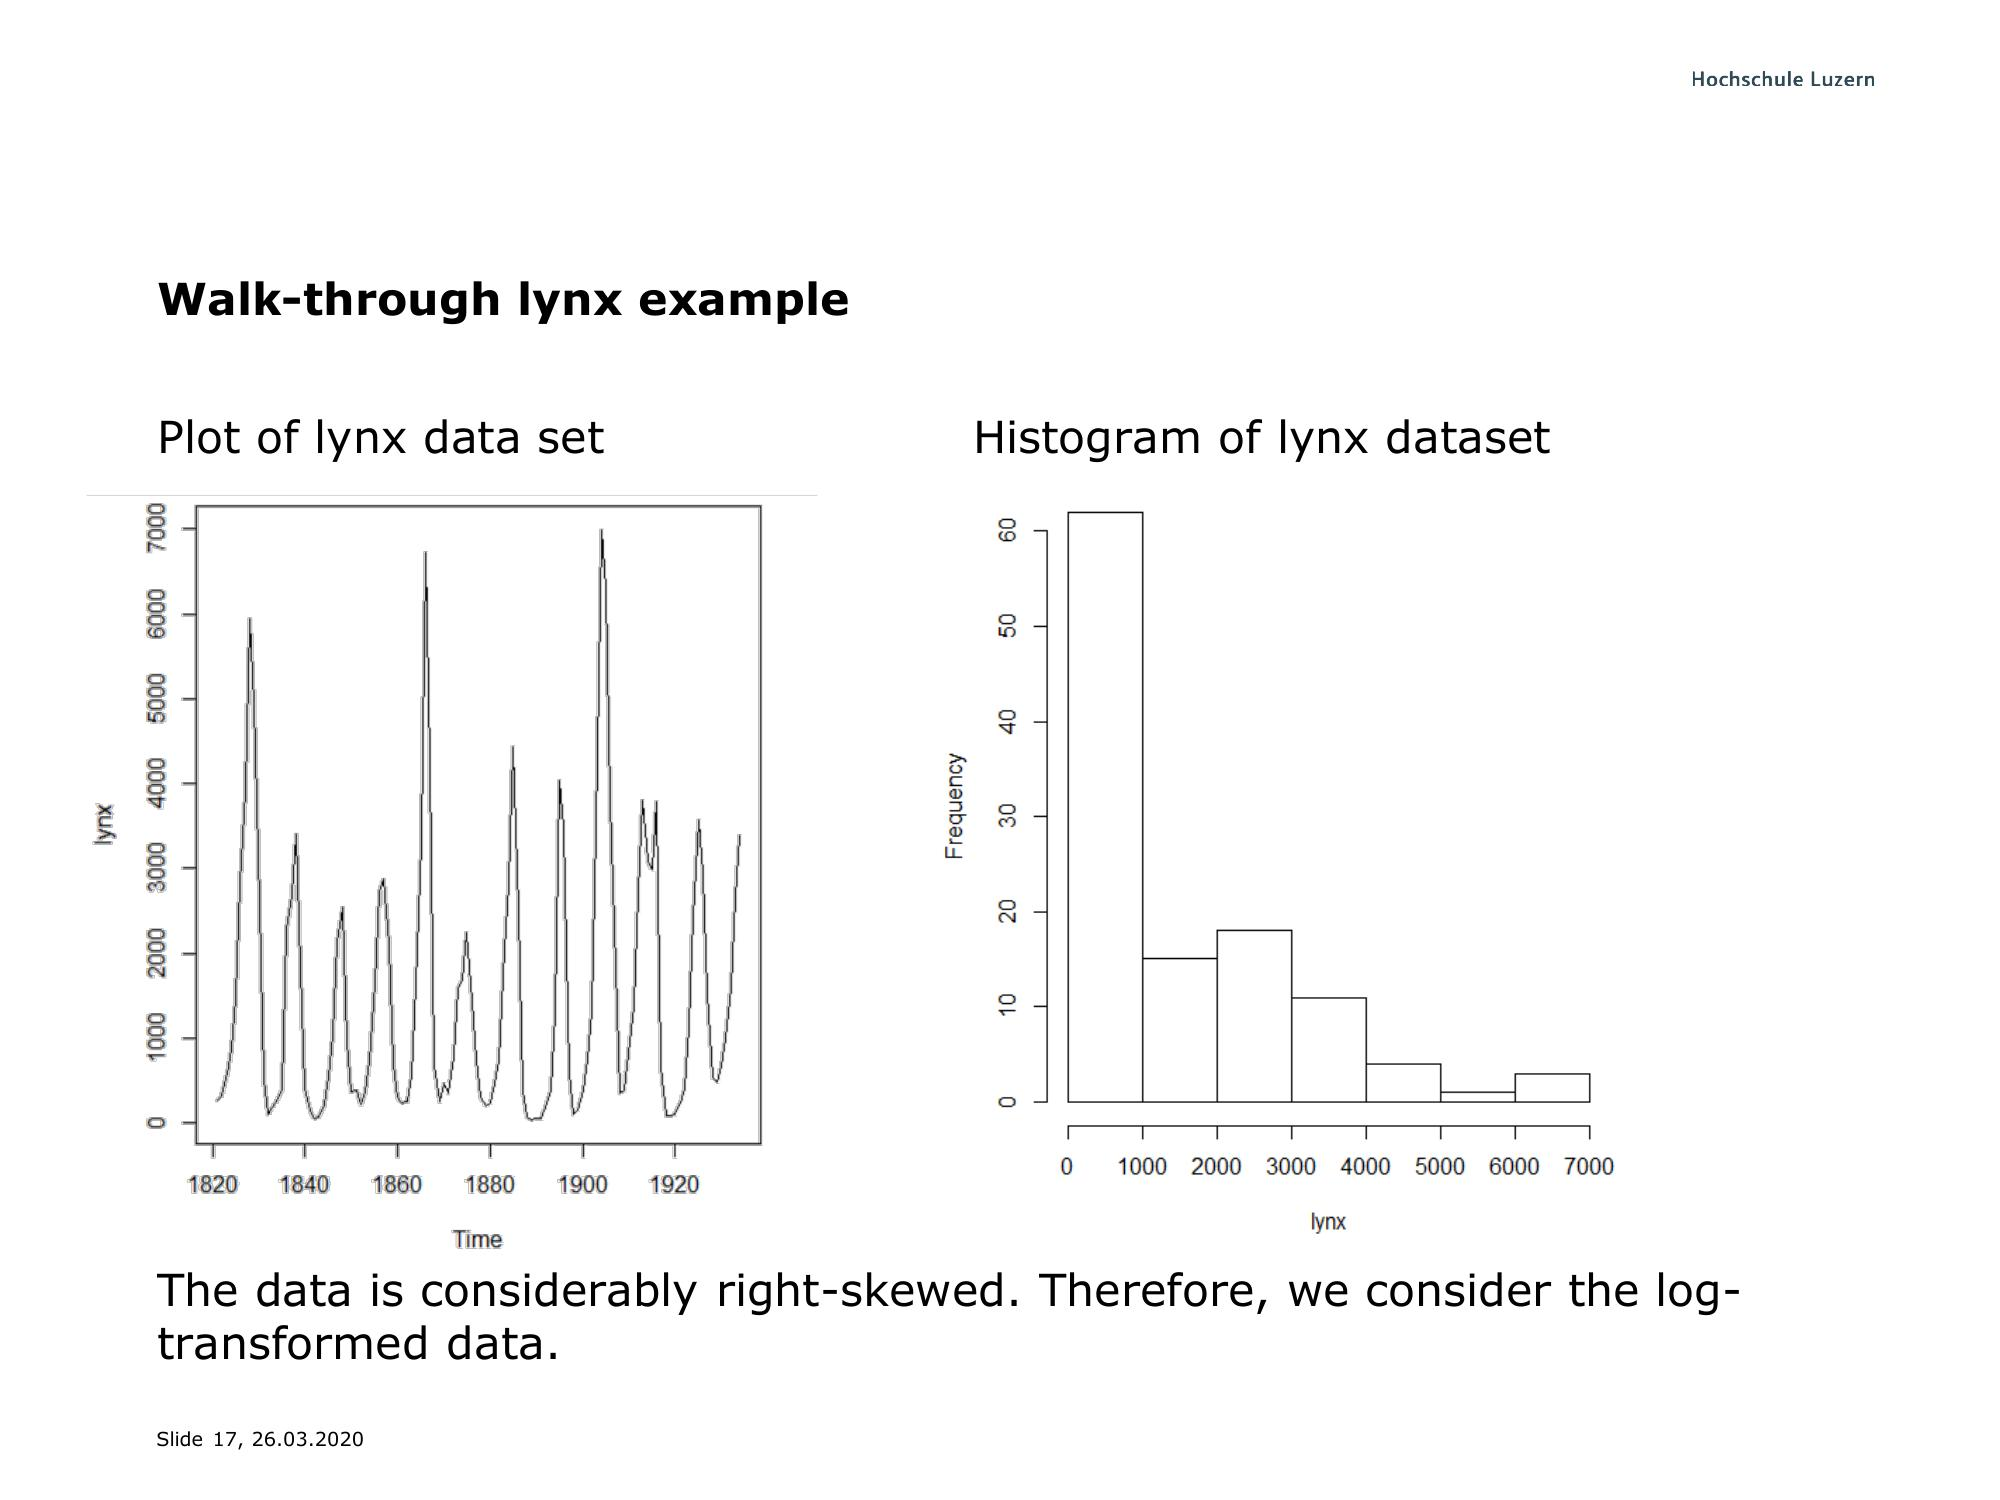Title: (139, 269, 857, 339)
